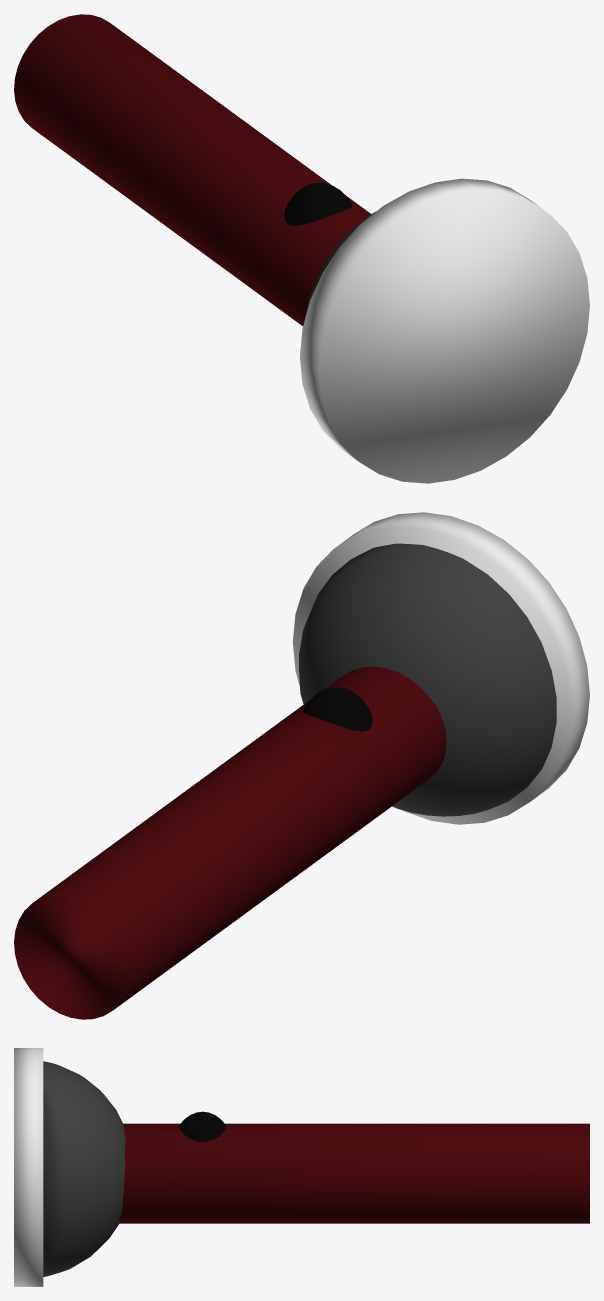
File: flashlight.fbx
3 views of the same model, one above another, from view 1: azimuth 30°, elevation 25°; view 2: azimuth 150°, elevation 25°; view 3: azimuth 270°, elevation 25° (orthographic). The views are drawn at different scales.
Visible parts, largest first — view 1: Cylinder.001, Cylinder, Sphere.001; view 2: Cylinder, Sphere, Cylinder.001, Sphere.001; view 3: Cylinder, Sphere, Cylinder.001, Sphere.001.
Part boxes in pixels (left/top/right/bottom): Cylinder.001: left=300, top=178, right=589, bottom=483; Cylinder: left=14, top=14, right=370, bottom=325; Sphere.001: left=284, top=182, right=352, bottom=225; Cylinder: left=14, top=666, right=446, bottom=1019; Sphere: left=299, top=543, right=556, bottom=816; Cylinder.001: left=293, top=512, right=589, bottom=824; Sphere.001: left=303, top=687, right=372, bottom=731; Cylinder: left=119, top=1123, right=589, bottom=1223; Sphere: left=43, top=1061, right=125, bottom=1276; Cylinder.001: left=14, top=1048, right=43, bottom=1286; Sphere.001: left=179, top=1111, right=226, bottom=1142.
Size of the model in its own units: 124 by 124 by 300.
